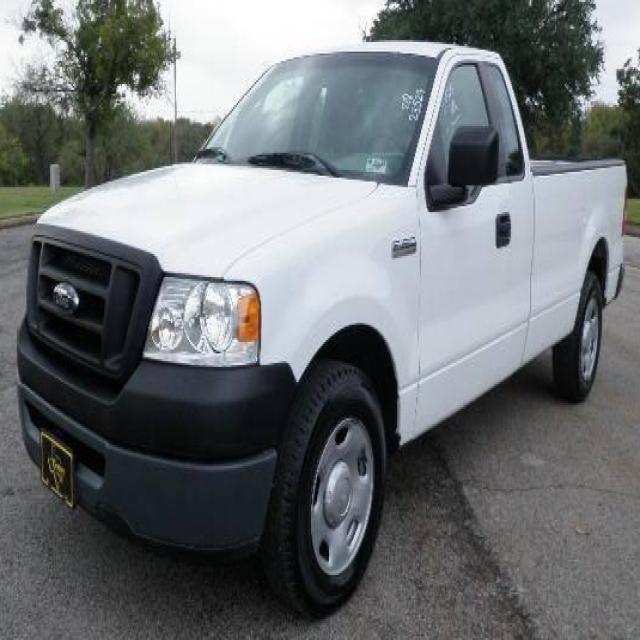CMT: (14, 28, 617, 607)
